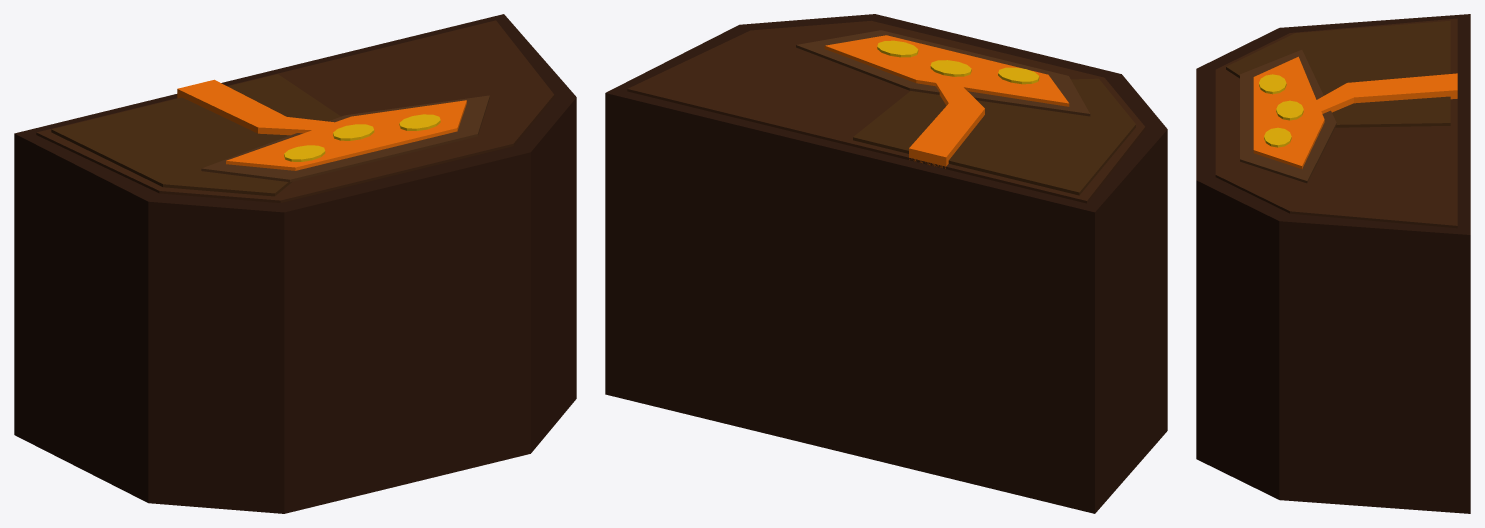
Rendered from bag_vulcao.fbx.
3 renders of one model, left to right at view 1: azimuth 30°, elevation 25°; view 2: azimuth 150°, elevation 25°; view 3: azimuth 270°, elevation 25°, orthographic. The views are drawn at different scales.
Parts seen in each view (by area): view 1: bag_vulcao_mochila, bag_vulcao_mochila_neon; view 2: bag_vulcao_mochila, bag_vulcao_mochila_neon; view 3: bag_vulcao_mochila, bag_vulcao_mochila_neon.
Part boxes in pixels (x1,y1,x2,y2): bag_vulcao_mochila: (14, 14, 576, 513); bag_vulcao_mochila_neon: (177, 79, 466, 170); bag_vulcao_mochila: (605, 14, 1167, 513); bag_vulcao_mochila_neon: (824, 35, 1069, 168); bag_vulcao_mochila: (1196, 14, 1470, 513); bag_vulcao_mochila_neon: (1253, 56, 1457, 168).
Bounding box in the file's own units: 3.03 × 1.87 × 1.59.
Materials: 1 (1 with a texture image).
